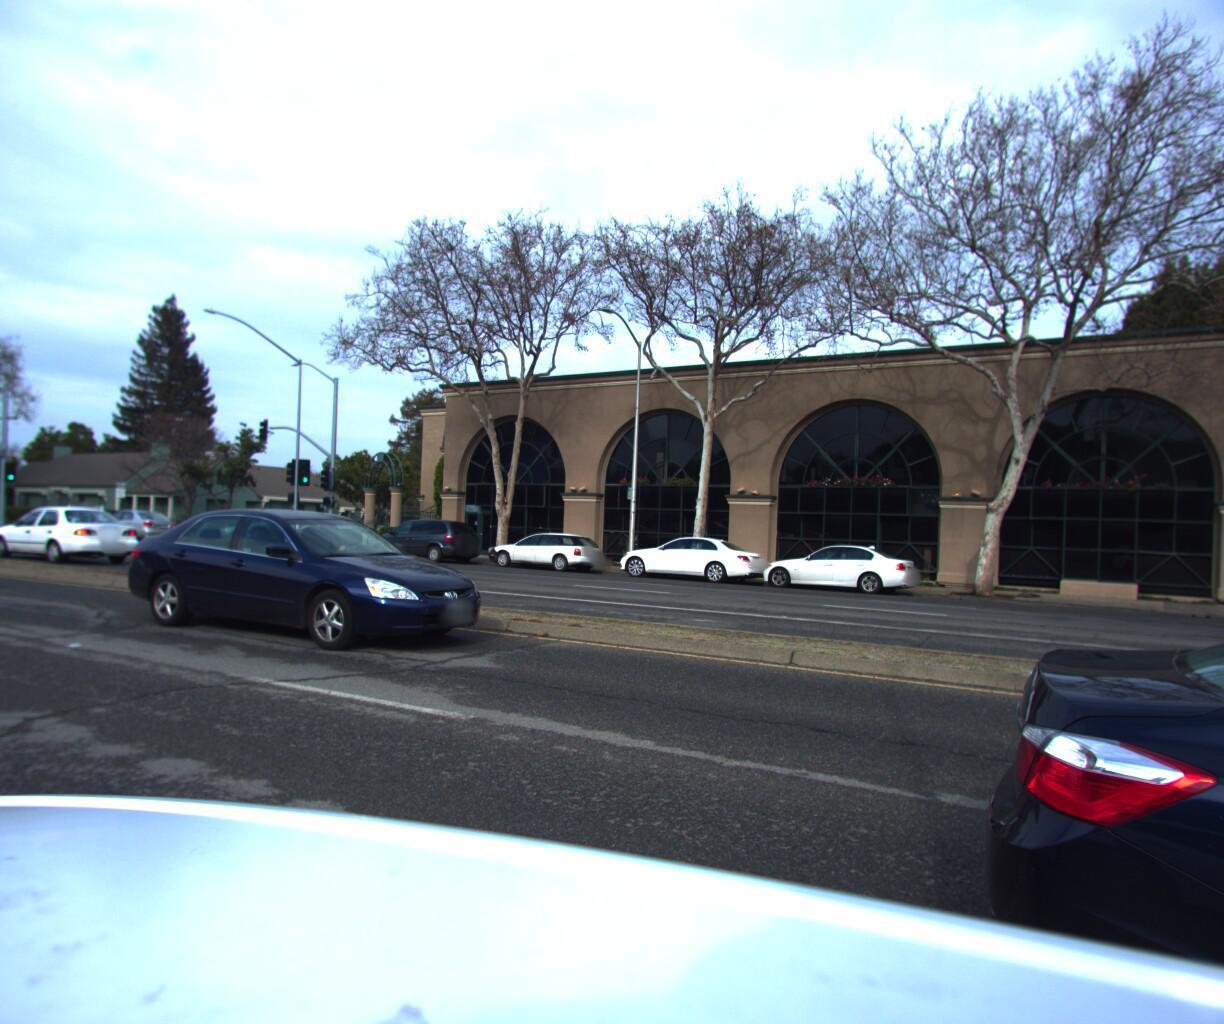car: (120, 502, 503, 659), (751, 533, 923, 595), (611, 527, 773, 584), (484, 517, 610, 570), (362, 513, 485, 562), (91, 505, 182, 541), (218, 511, 317, 539), (248, 513, 310, 534)
